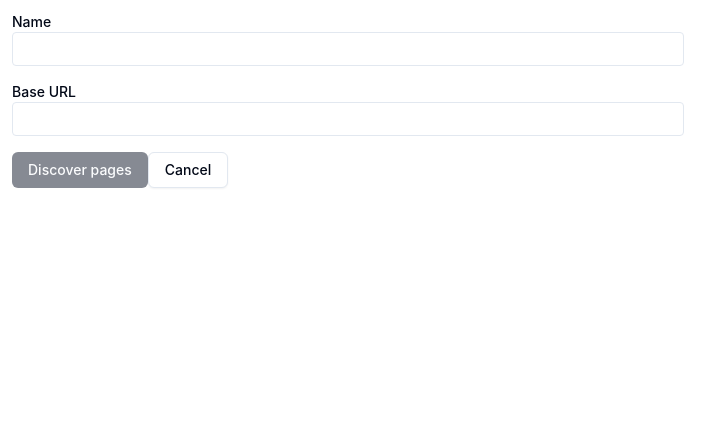
it: SiteWizard › discover error renders ErrorBanner; manual entry remains usable
This screenshot has width=701, height=443.
Step 1. Type "X" into the field labelled "Name" → (348, 49), box x1=12 y1=32 x2=684 y2=66
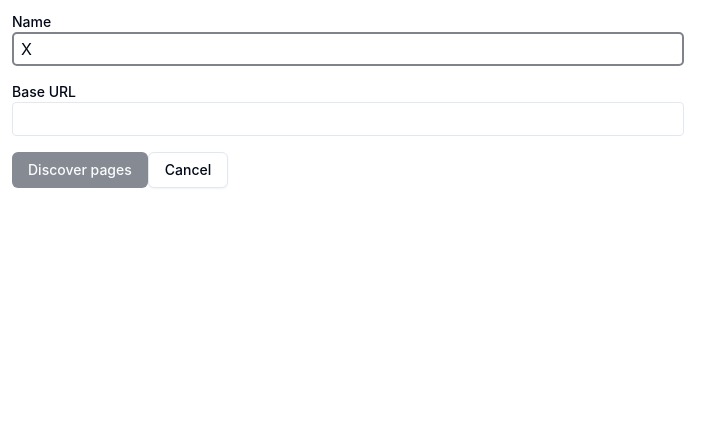
Step 2. Type "https://x" into the field labelled "Base URL" → (348, 119), box x1=12 y1=102 x2=684 y2=136
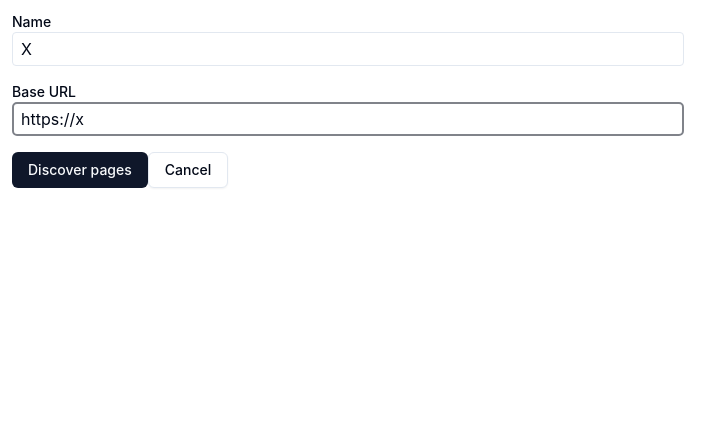
Step 3. Click the button "Discover pages" → (80, 170), box x1=12 y1=152 x2=148 y2=188
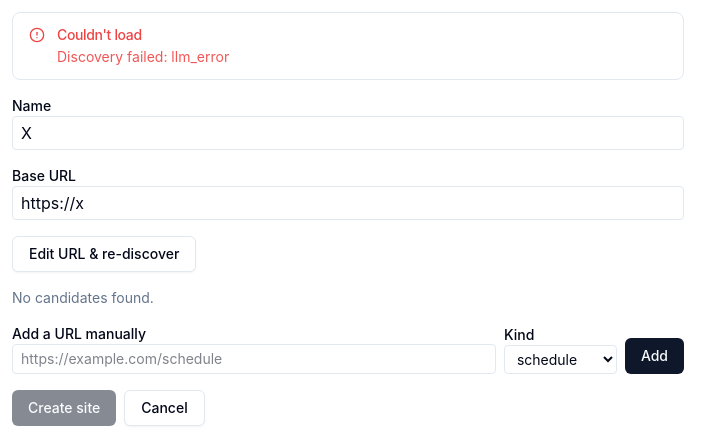
Now the text "Discovery failed: llm_error" is shown, box x1=57 y1=47 x2=229 y2=67
Now the field named "manual url" is shown, box x1=12 y1=344 x2=496 y2=374
